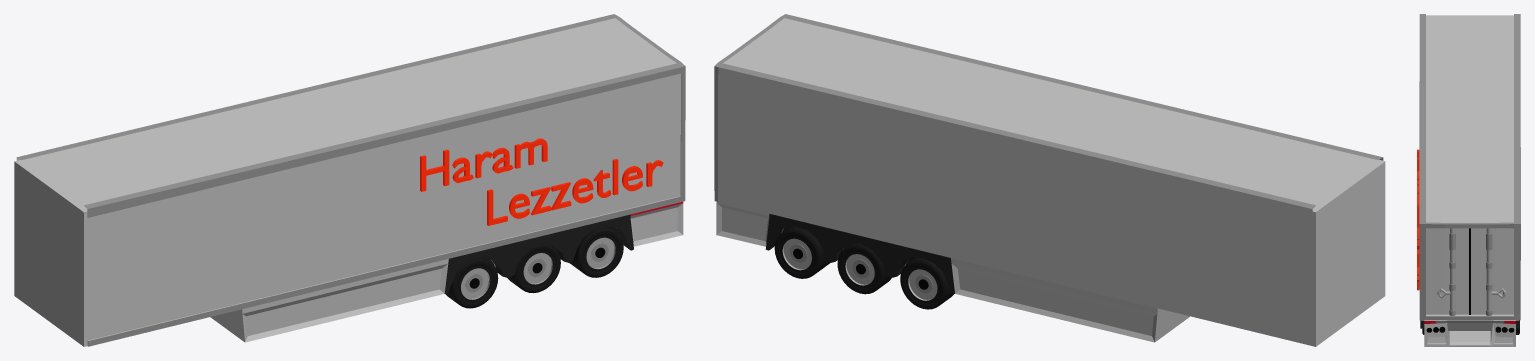
File: Kamyon.fbx
The picture shows the model from 3 angles, left to right: view 1: azimuth 30°, elevation 25°; view 2: azimuth 150°, elevation 25°; view 3: azimuth 270°, elevation 25°; orthographic projection. The views are drawn at different scales.
Visible parts, largest first — view 1: Cylinder; view 2: Cylinder; view 3: Cylinder.
Boxes of the visible parts, x1,y1,x2,y2 form: Cylinder: [14, 14, 685, 346]; Cylinder: [714, 14, 1385, 346]; Cylinder: [1417, 14, 1520, 346].
Size of the model in its own units: 1256 by 389 by 262.
